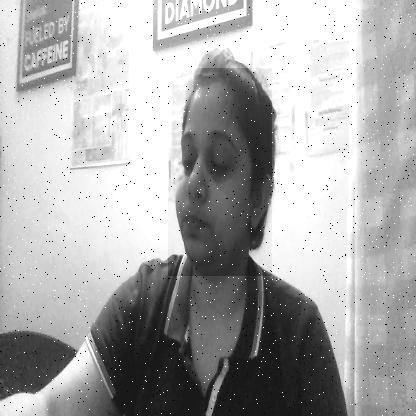Distracted: (168, 68, 272, 276)
